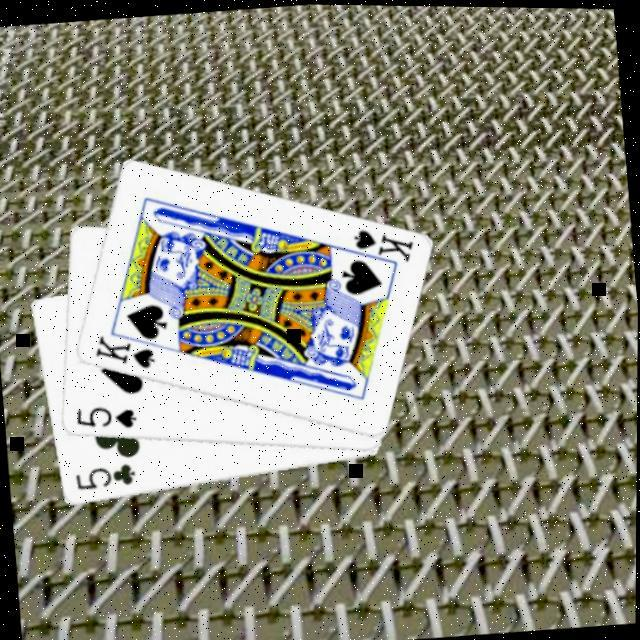5C: (70, 457, 138, 494)
5S: (70, 398, 138, 435)
KS: (338, 219, 416, 271), (88, 326, 157, 375)
